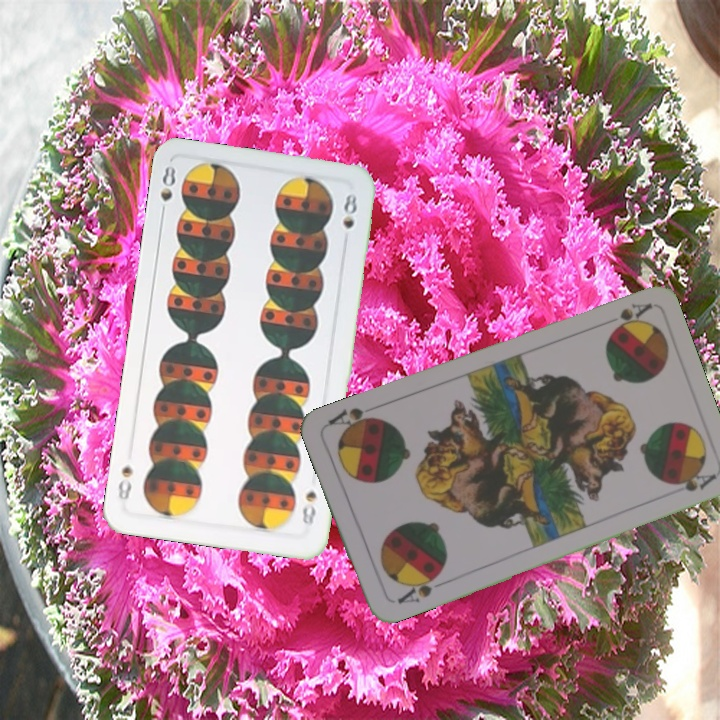S8: (156, 161, 178, 220), (298, 487, 320, 528)
SA: (393, 569, 442, 607), (605, 299, 653, 337)
